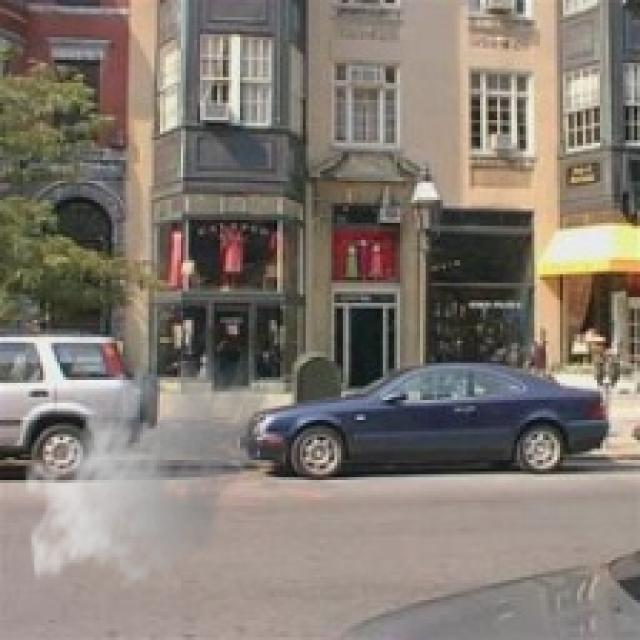smoke: (23, 329, 271, 594)
